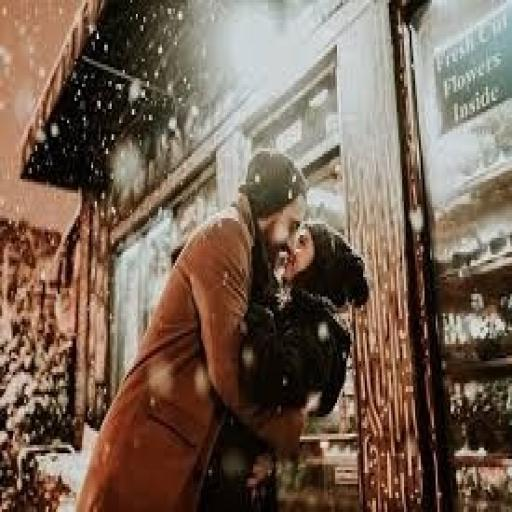hugging: (72, 146, 372, 509)
